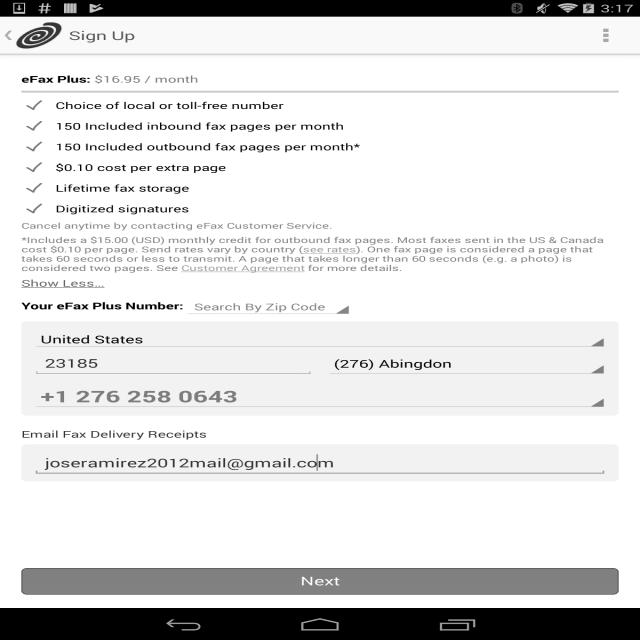Button: (21, 568, 619, 595)
EditText: (32, 450, 608, 476), (32, 350, 315, 377)
ImageButton: (571, 16, 640, 54)
ImageView: (14, 19, 64, 52), (0, 30, 17, 41)
Spinner: (32, 382, 608, 410), (32, 329, 608, 350), (325, 350, 608, 377), (184, 296, 353, 317)
TextView: (21, 234, 619, 274), (32, 385, 608, 407), (21, 113, 619, 134), (21, 134, 619, 155), (21, 175, 619, 196), (21, 196, 619, 217), (21, 93, 619, 113), (21, 155, 619, 175), (32, 332, 608, 346), (21, 428, 619, 440), (325, 356, 608, 371), (21, 220, 333, 231), (22, 296, 184, 312), (94, 67, 198, 91), (185, 300, 334, 313), (21, 274, 130, 290), (22, 67, 94, 91), (69, 27, 135, 43)
